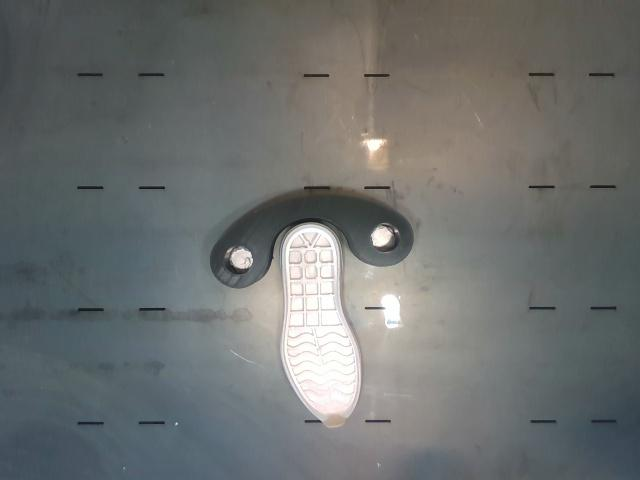shoes: (282, 225, 361, 427)
